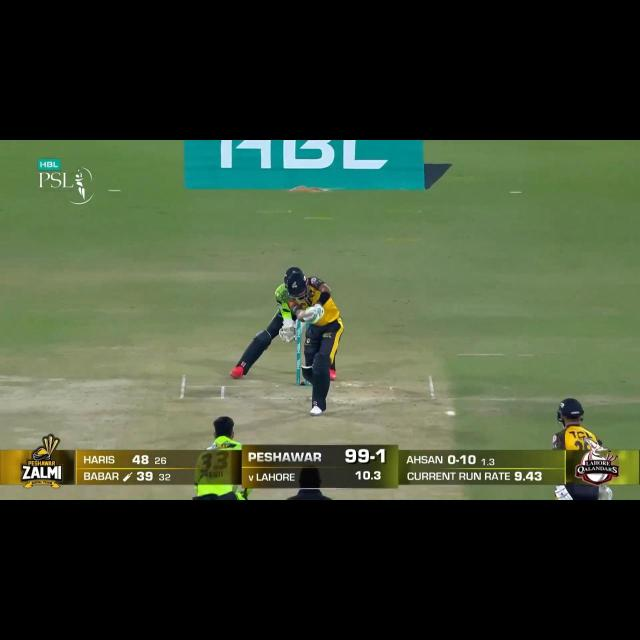bat: (292, 311, 314, 321)
toe: (297, 311, 306, 319)
